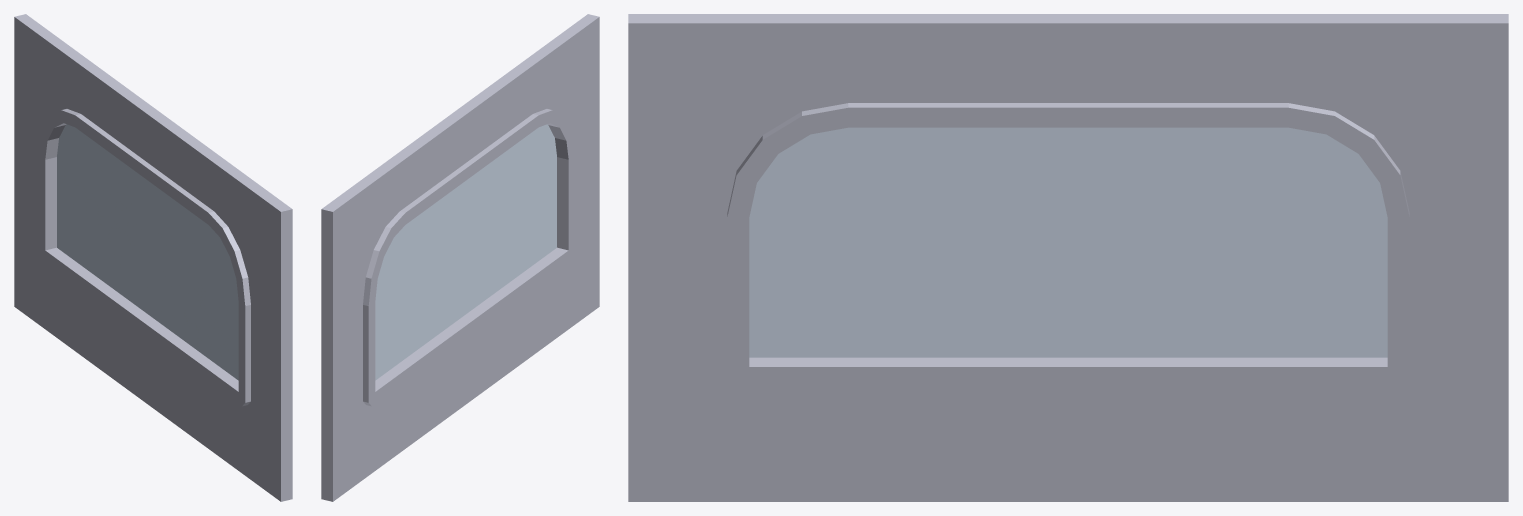
Rendered from wall-window-wide-round.obj.
3 renders of one model, left to right at view 1: azimuth 30°, elevation 25°; view 2: azimuth 150°, elevation 25°; view 3: azimuth 270°, elevation 25°, orthographic. The views are drawn at different scales.
Bounding box in the file's own units: 0.2 × 2.4 × 4.
